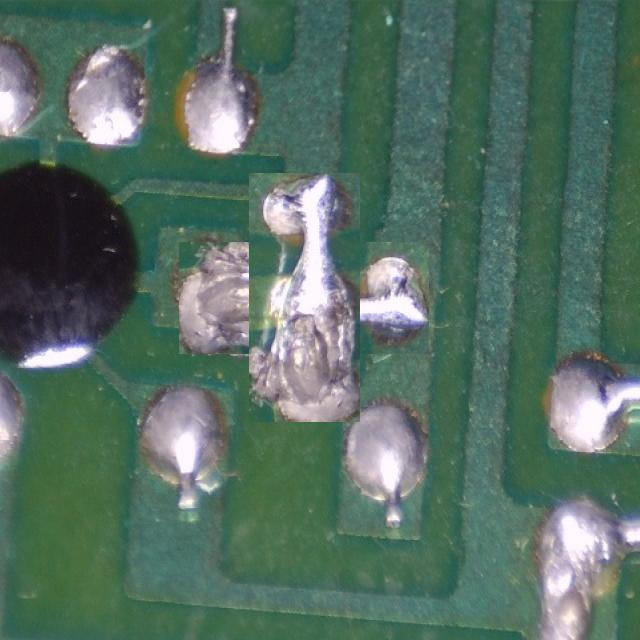Short_circuit: (249, 174, 360, 421)
